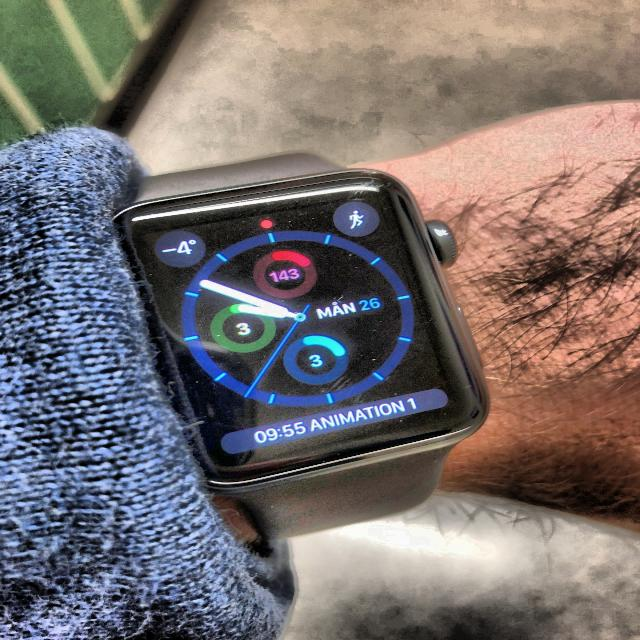Electronic watch: (298, 170, 302, 172)
